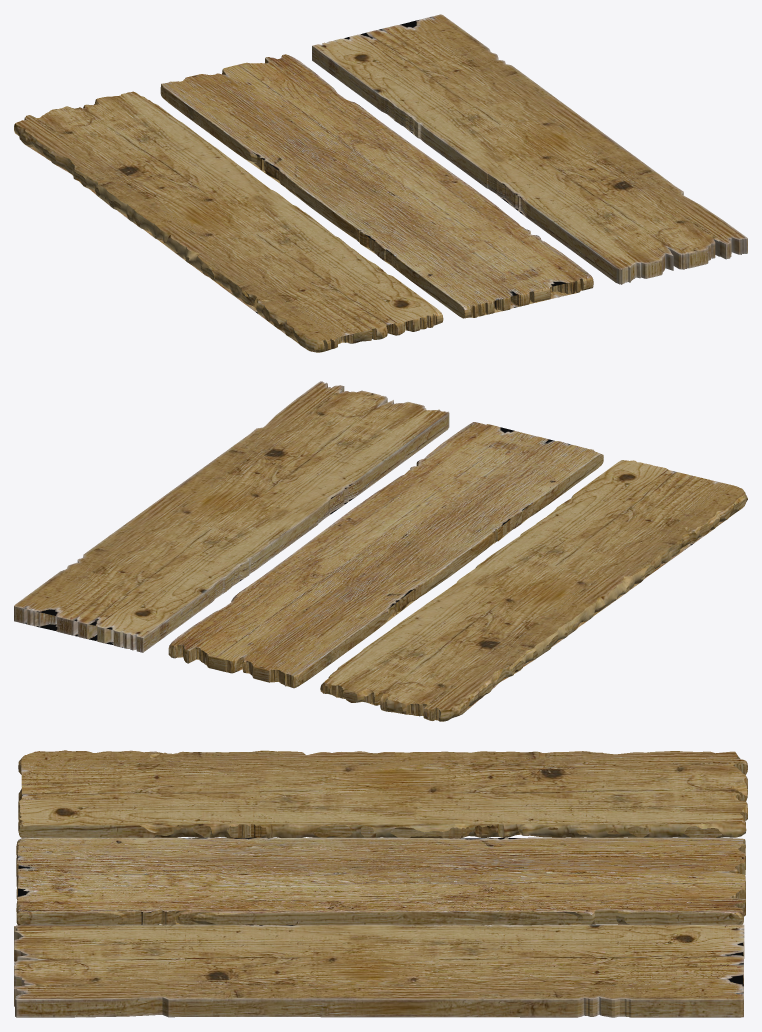
File: Planks.fbx
3 renders of one model, top to bottom at view 1: azimuth 30°, elevation 25°; view 2: azimuth 150°, elevation 25°; view 3: azimuth 270°, elevation 25°, orthographic. The views are drawn at different scales.
Visible parts, largest first — view 1: PLANK 1, PLANK 2, PLANK 3; view 2: PLANK 1, PLANK 2, PLANK 3; view 3: PLANK 1, PLANK 2, PLANK 3.
Boxes of the visible parts, x1,y1,x2,y2 form: PLANK 1: (312,14,747,284); PLANK 2: (160,54,593,318); PLANK 3: (14,91,443,352); PLANK 1: (14,381,449,652); PLANK 2: (168,422,603,688); PLANK 3: (320,460,747,721); PLANK 1: (14,924,744,1017); PLANK 2: (16,837,745,925); PLANK 3: (18,750,747,838).
Size of the model in its own units: 73.85 by 2.46 by 91.06.
Materials: 1 (1 with a texture image).
